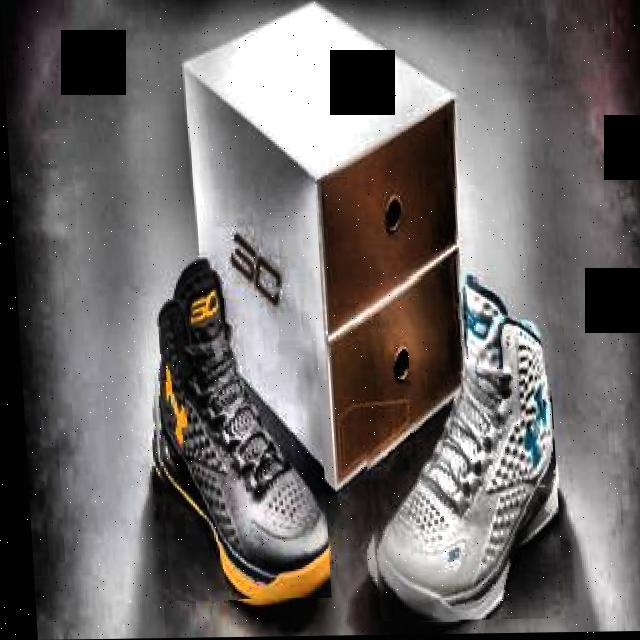shoe: (345, 276, 557, 622), (136, 258, 324, 602)
